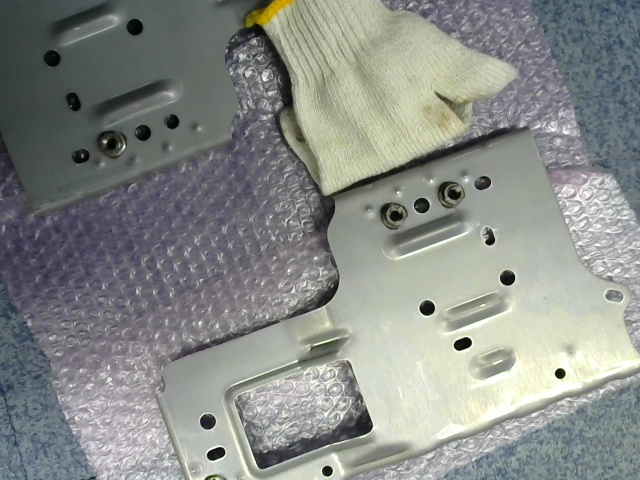dog: (95, 130, 127, 160), (379, 202, 409, 231), (438, 181, 465, 210)
